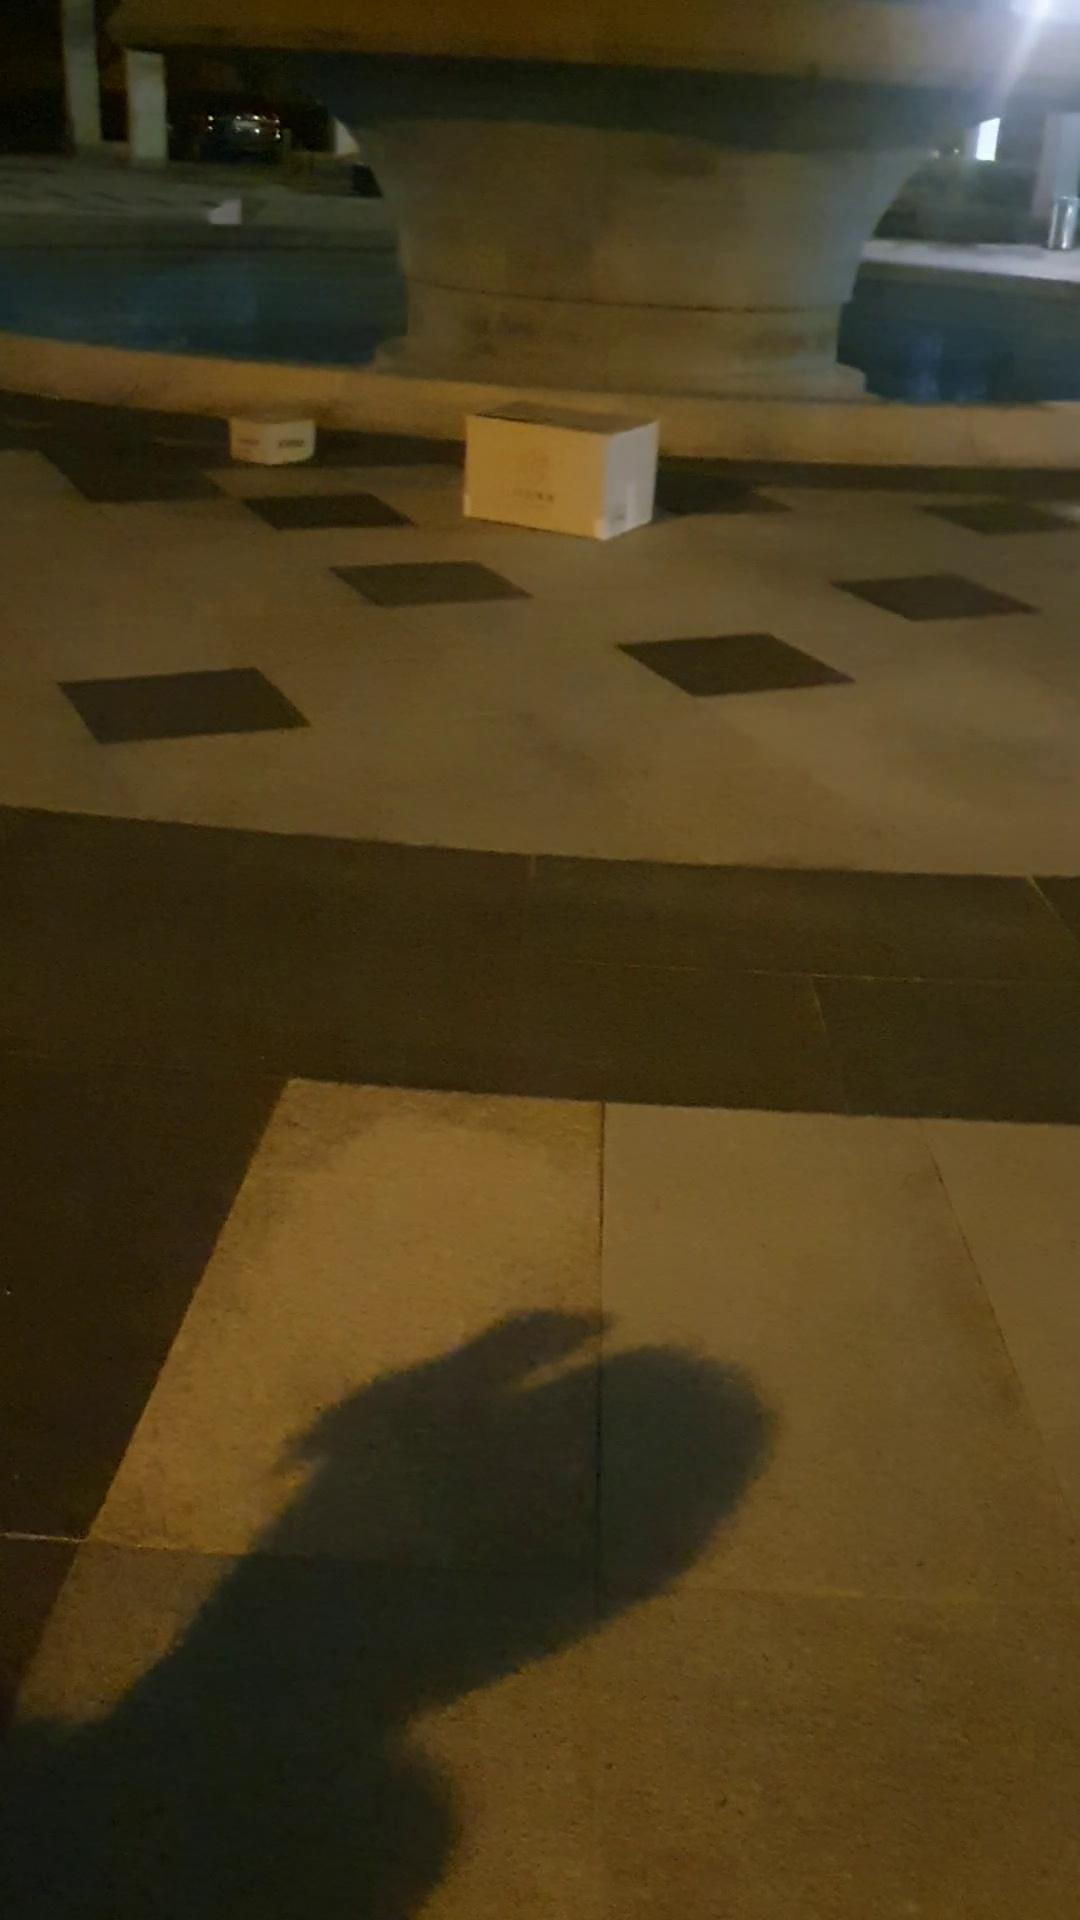Box: (433, 388, 674, 549), (223, 404, 320, 475)
